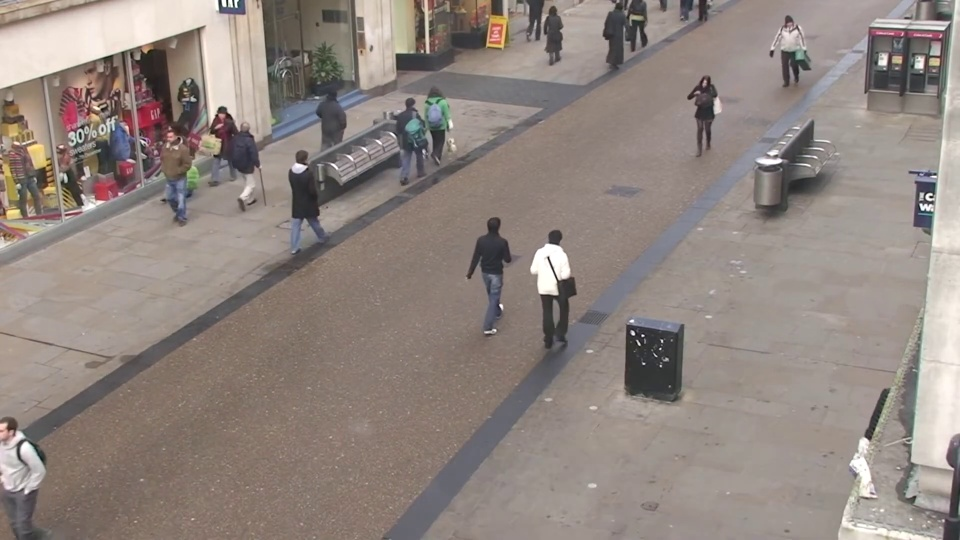pedestrian: (542, 220, 581, 345), (479, 205, 519, 326), (150, 129, 190, 226), (294, 141, 332, 243), (149, 123, 189, 219), (200, 107, 237, 198), (237, 113, 273, 206), (401, 90, 432, 178), (323, 83, 355, 168), (425, 79, 455, 164), (688, 74, 717, 158), (772, 15, 799, 86), (543, 3, 566, 67), (610, 0, 632, 64)
